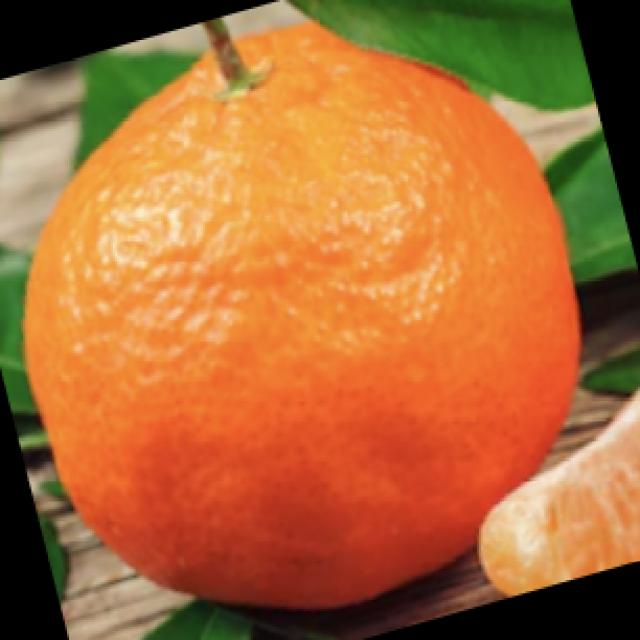fresh: (10, 4, 592, 620)
